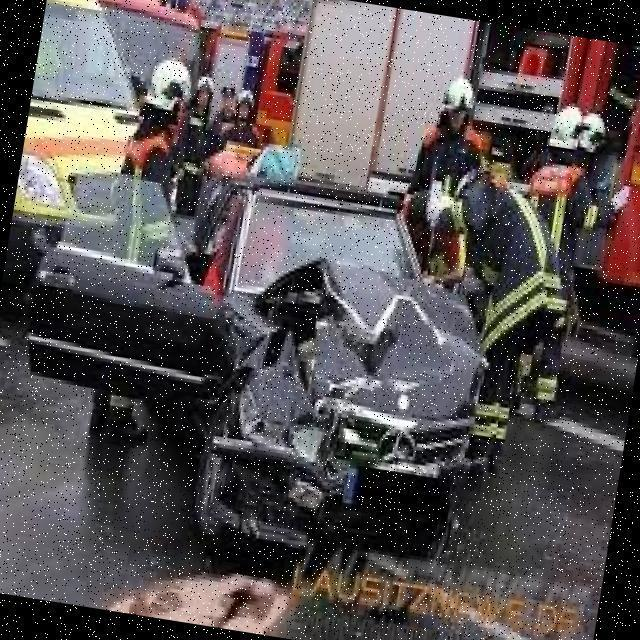accident: (102, 163, 542, 617)
